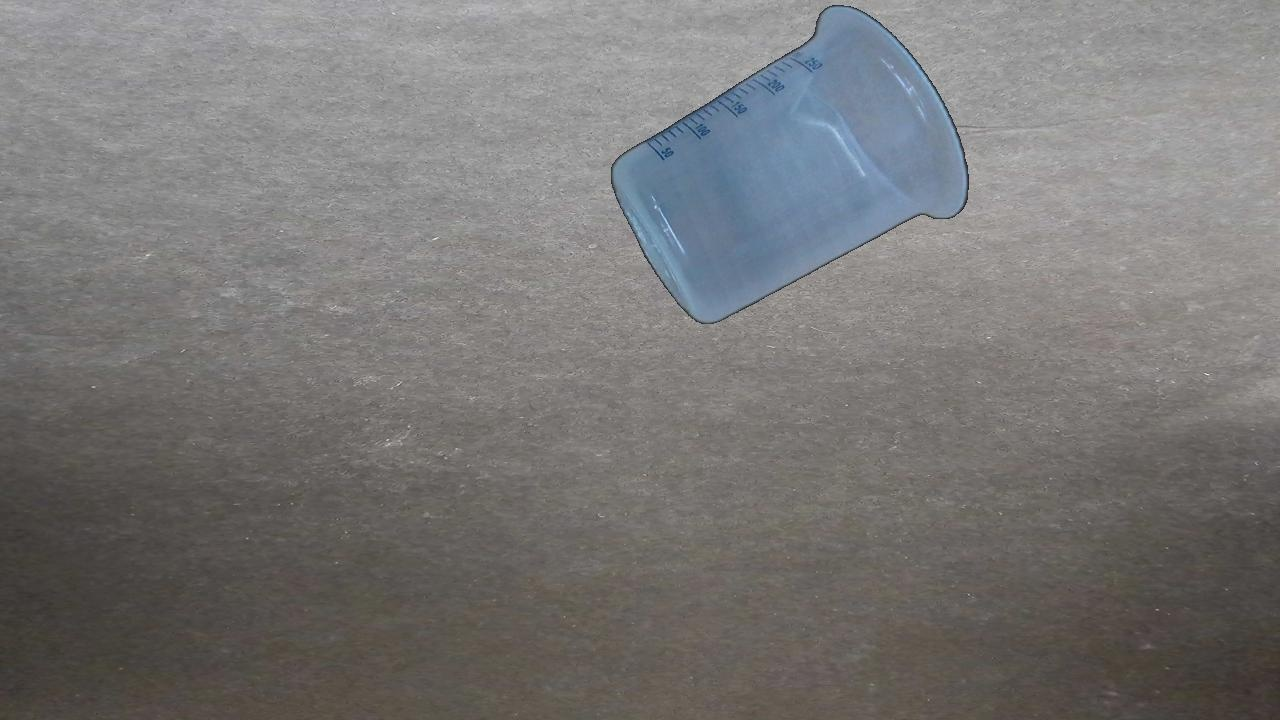becker: (610, 3, 969, 326)
